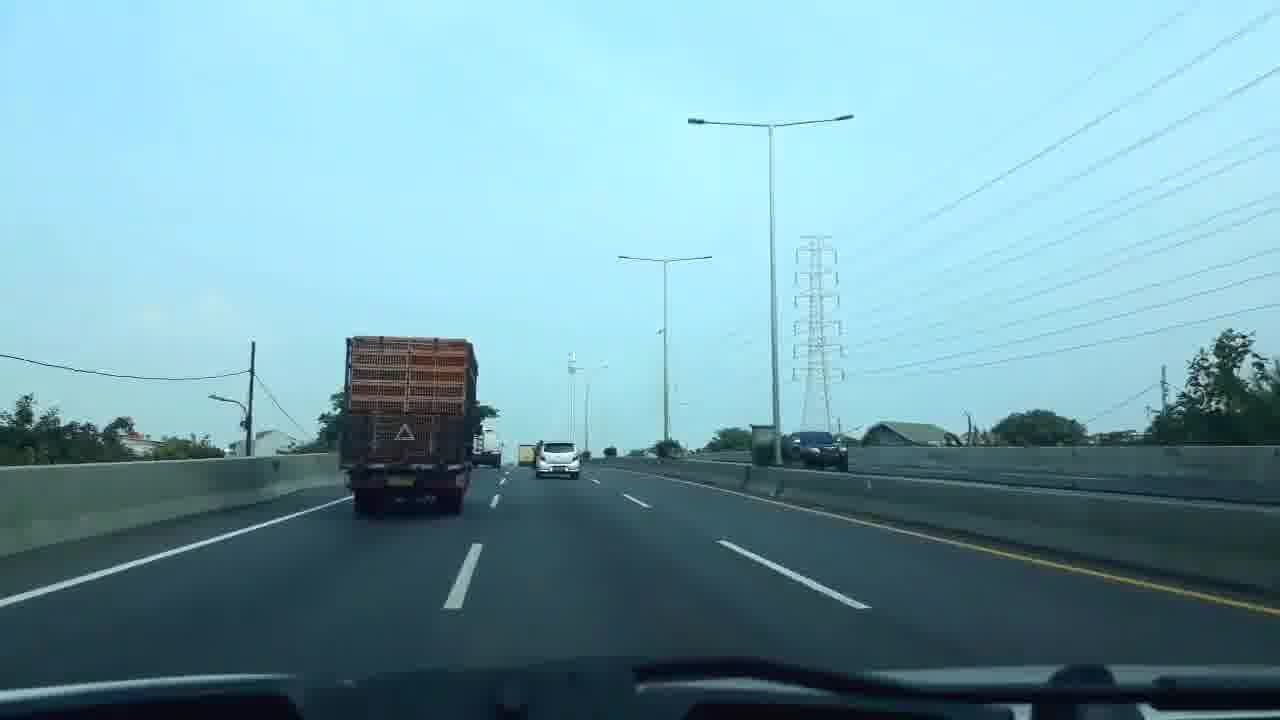plate_positive: (386, 477, 417, 488), (552, 466, 566, 473)
